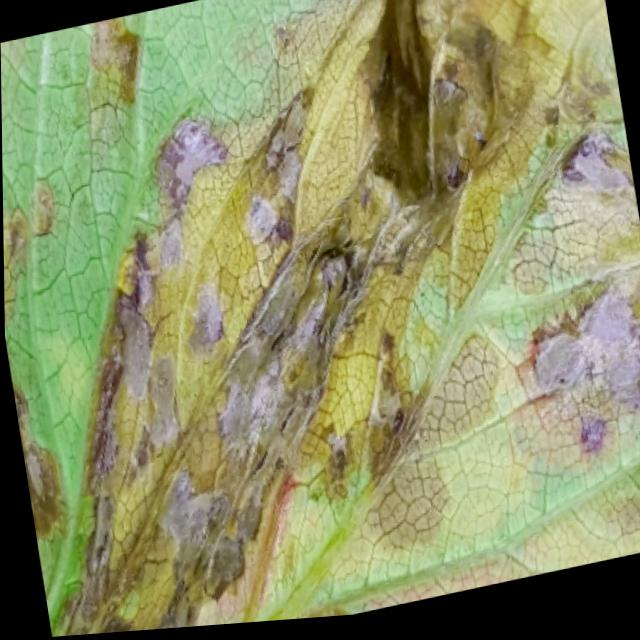Angular Leafspot: (0, 0, 640, 638)
